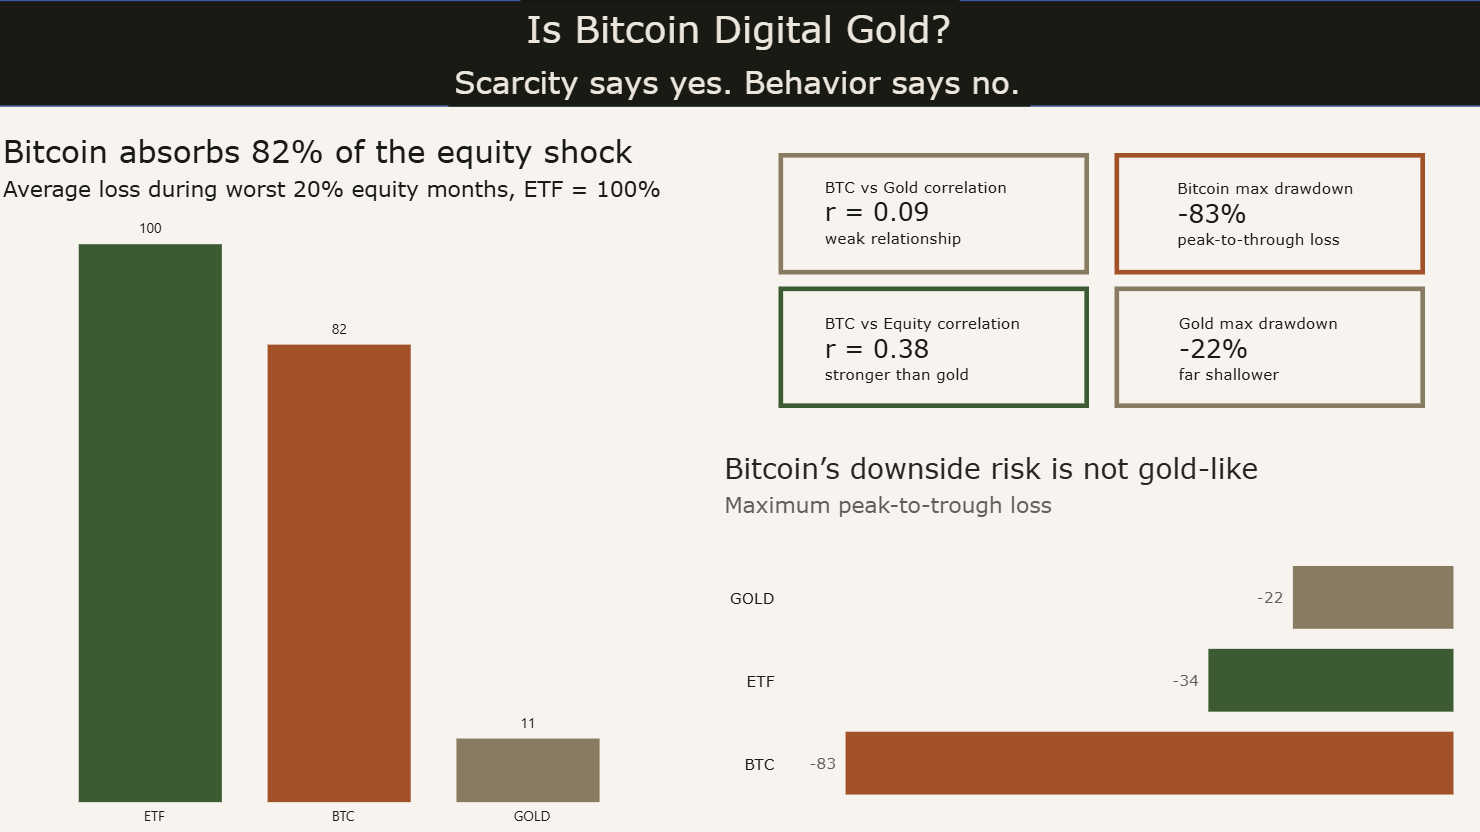

This screenshot's page, from the dashboard's own definition file:
{"tool":"powerbi","page":{"name":"Hero","canvas":[1280,720],"ordinal":0},"visuals":[{"type":"columnChart","title":"Bitcoin fell with equities. Gold stayed flat.","fields":{"Category":["executive_safe_haven.asset"],"Y":["Sum(executive_safe_haven.avg_return_bad_equity_months)"]},"box":[0,113.1,620.7,607.6],"z":0},{"type":"barChart","title":"Bitcoin’s downside risk is not gold-like","fields":{"Category":["executive_drawdown.asset"],"Y":["Sum(executive_drawdown.max_drawdown_pct)"]},"box":[621.1,388.7,637.9,331.8],"z":1000},{"type":"shape","box":[672.7,131.7,267.3,104.6],"z":2000},{"type":"textbox","box":[707.6,145.9,185.9,78.8],"z":3000},{"type":"shape","box":[961.9,131.7,267.3,104.6],"z":4000},{"type":"shape","box":[672.7,246.6,267.3,104.6],"z":5000},{"type":"shape","box":[961.9,246.6,267.3,104.6],"z":6000},{"type":"textbox","box":[1011.6,147.7,192.2,73],"z":7000},{"type":"textbox","box":[707.6,263.4,218.2,73],"z":8000},{"type":"textbox","box":[1012.3,263.4,167.9,73],"z":9000},{"type":"shape","box":[0,0,1280.9,91.7],"z":10000},{"type":"textbox","box":[450.8,0,378.3,50.4],"z":11000},{"type":"textbox","box":[388.7,49.1,501,42.6],"z":12000}]}

Visuals, with their boxes in screenshot pixels (x1, y1, x2, y2), scaled from the page's 1280x720 canvas onto the 1480x832 screenshot:
"Bitcoin fell with equities. Gold stayed flat." columnChart: bbox=[0, 131, 718, 831]
"Bitcoin’s downside risk is not gold-like" barChart: bbox=[718, 449, 1456, 831]
shape: bbox=[778, 152, 1087, 273]
textbox: bbox=[818, 169, 1033, 260]
shape: bbox=[1112, 152, 1421, 273]
shape: bbox=[778, 285, 1087, 406]
shape: bbox=[1112, 285, 1421, 406]
textbox: bbox=[1170, 171, 1392, 255]
textbox: bbox=[818, 304, 1070, 389]
textbox: bbox=[1170, 304, 1365, 389]
shape: bbox=[0, 0, 1479, 106]
textbox: bbox=[521, 0, 959, 58]
textbox: bbox=[449, 57, 1029, 106]
